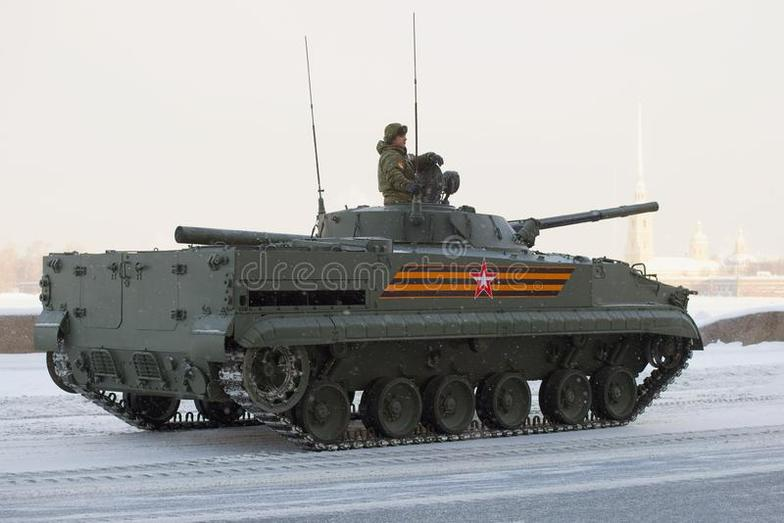bmp: (42, 201, 700, 446)
